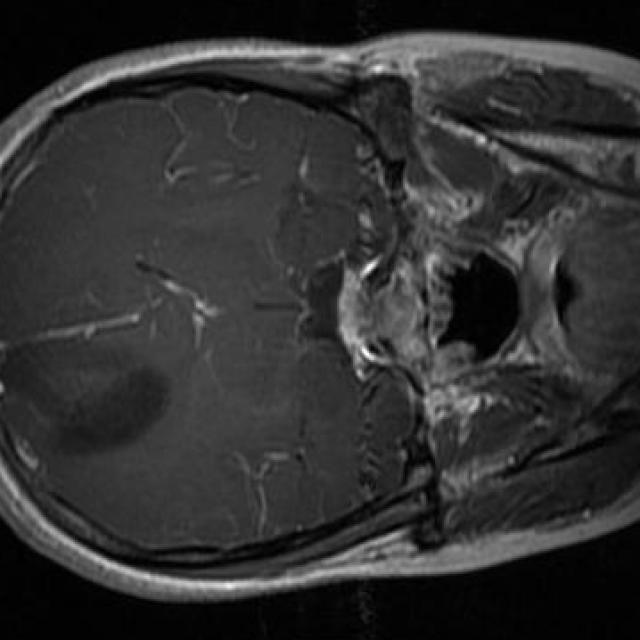glioma: (0, 341, 171, 453)
